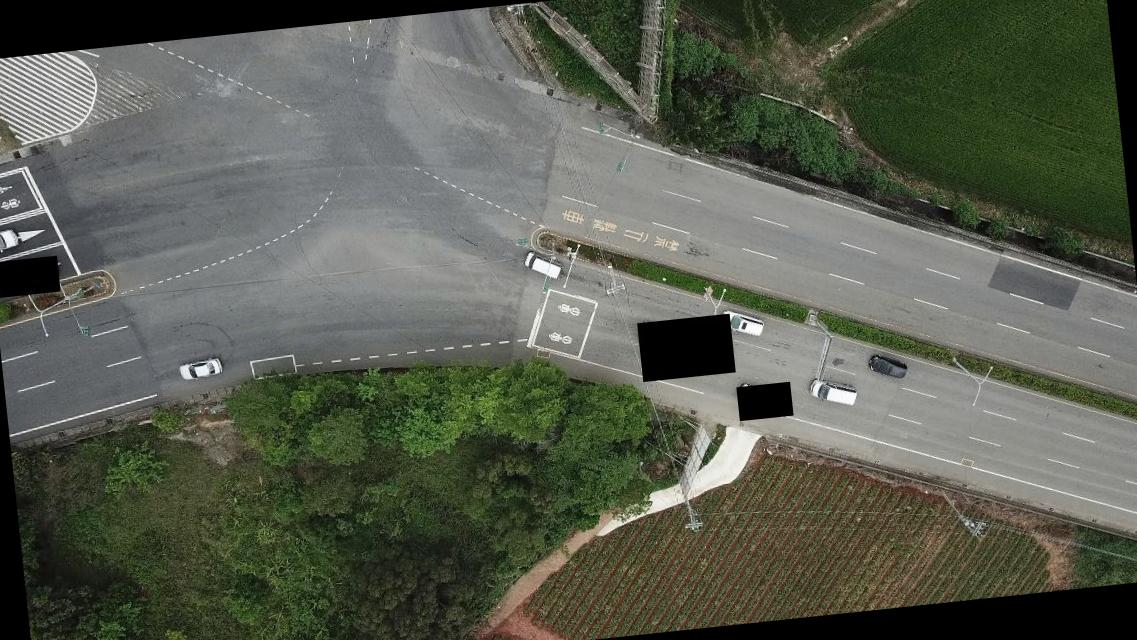vehicle: (808, 374, 858, 410), (718, 307, 765, 342), (522, 248, 562, 284), (177, 355, 224, 382), (867, 353, 908, 380), (0, 225, 22, 256)
